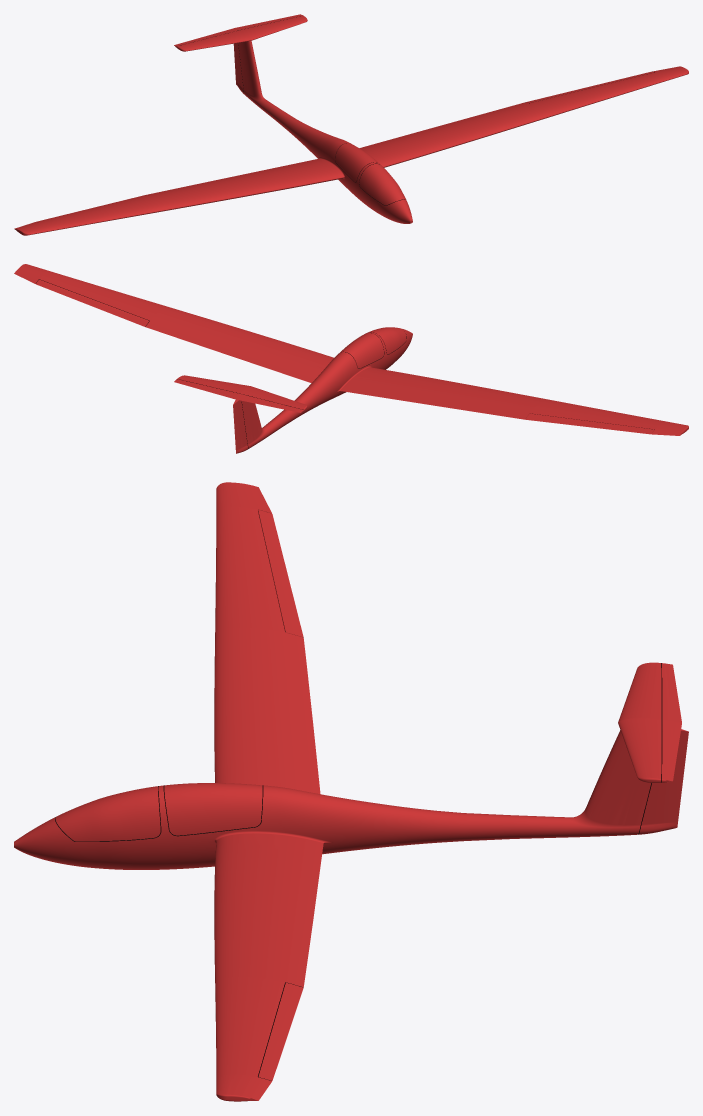
Rendered from Controled Glider.FBX.
3 views of the same model, one above another, from view 1: azimuth 30°, elevation 25°; view 2: azimuth 150°, elevation 25°; view 3: azimuth 270°, elevation 25° (orthographic). The views are drawn at different scales.
Parts seen in each view (by area): view 1: Glider; view 2: Glider; view 3: Glider.
Boxes of the visible parts, x1=… form: Glider: x1=14, y1=14, x2=688, y2=235; Glider: x1=14, y1=264, x2=688, y2=453; Glider: x1=14, y1=482, x2=688, y2=1101.
Bounding box in the file's own units: 901 × 102 × 419.
